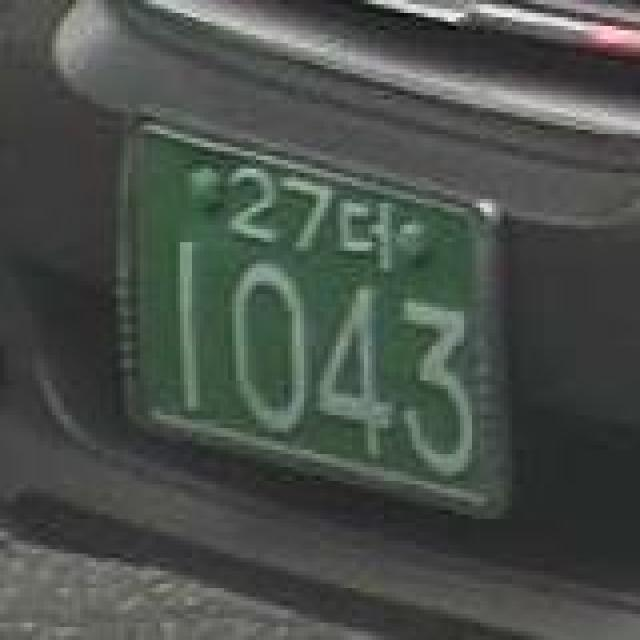illegal_plate: (103, 111, 530, 544)
